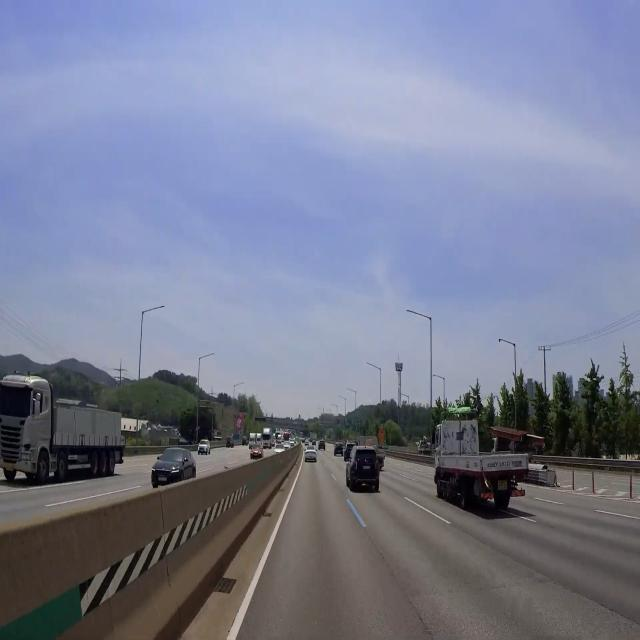car: (495, 477, 512, 493), (363, 463, 371, 472), (157, 475, 167, 482), (253, 452, 258, 457), (200, 447, 203, 452), (308, 456, 313, 459)
